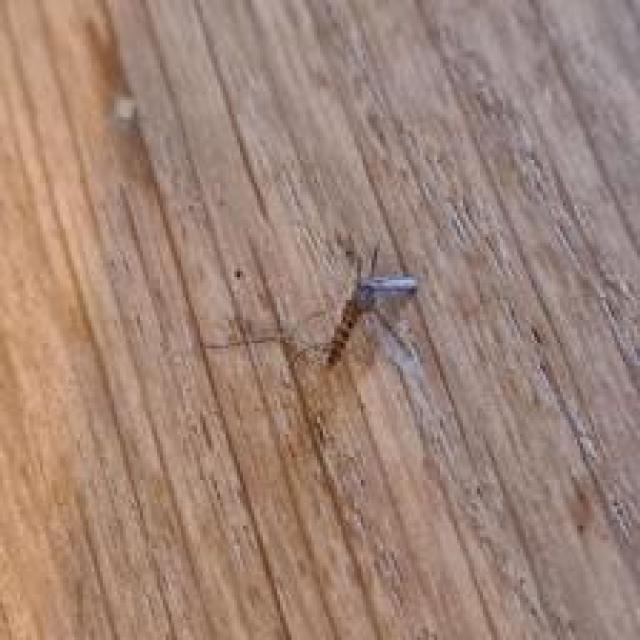Culex: (320, 244, 431, 402)
